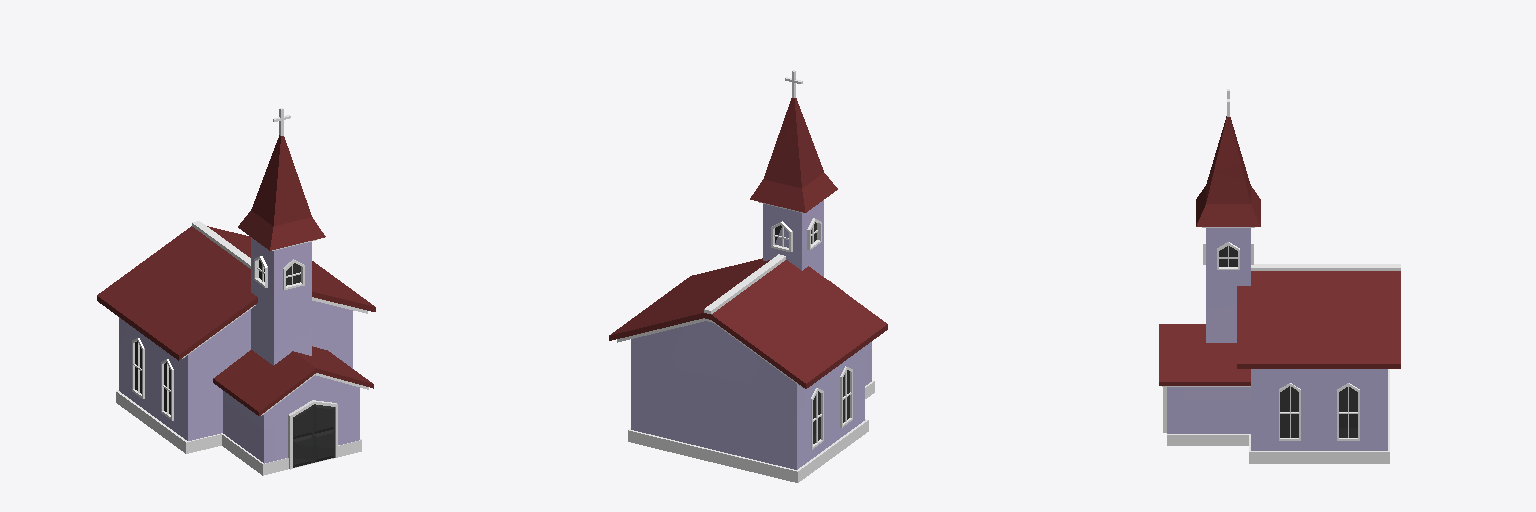
3 views of the same model, side by side, from view 1: azimuth 30°, elevation 25°; view 2: azimuth 150°, elevation 25°; view 3: azimuth 270°, elevation 25° (orthographic).
Visible parts, largest first — view 1: Cube.003_Cube.001; view 2: Cube.003_Cube.001; view 3: Cube.003_Cube.001.
Boxes of the visible parts, x1,y1,x2,y2 form: Cube.003_Cube.001: [97, 108, 375, 475]; Cube.003_Cube.001: [609, 70, 887, 482]; Cube.003_Cube.001: [1159, 89, 1400, 463].
Bounding box in the file's own units: 18.98 × 30.53 × 20.16.
1 materials, 1 textured.